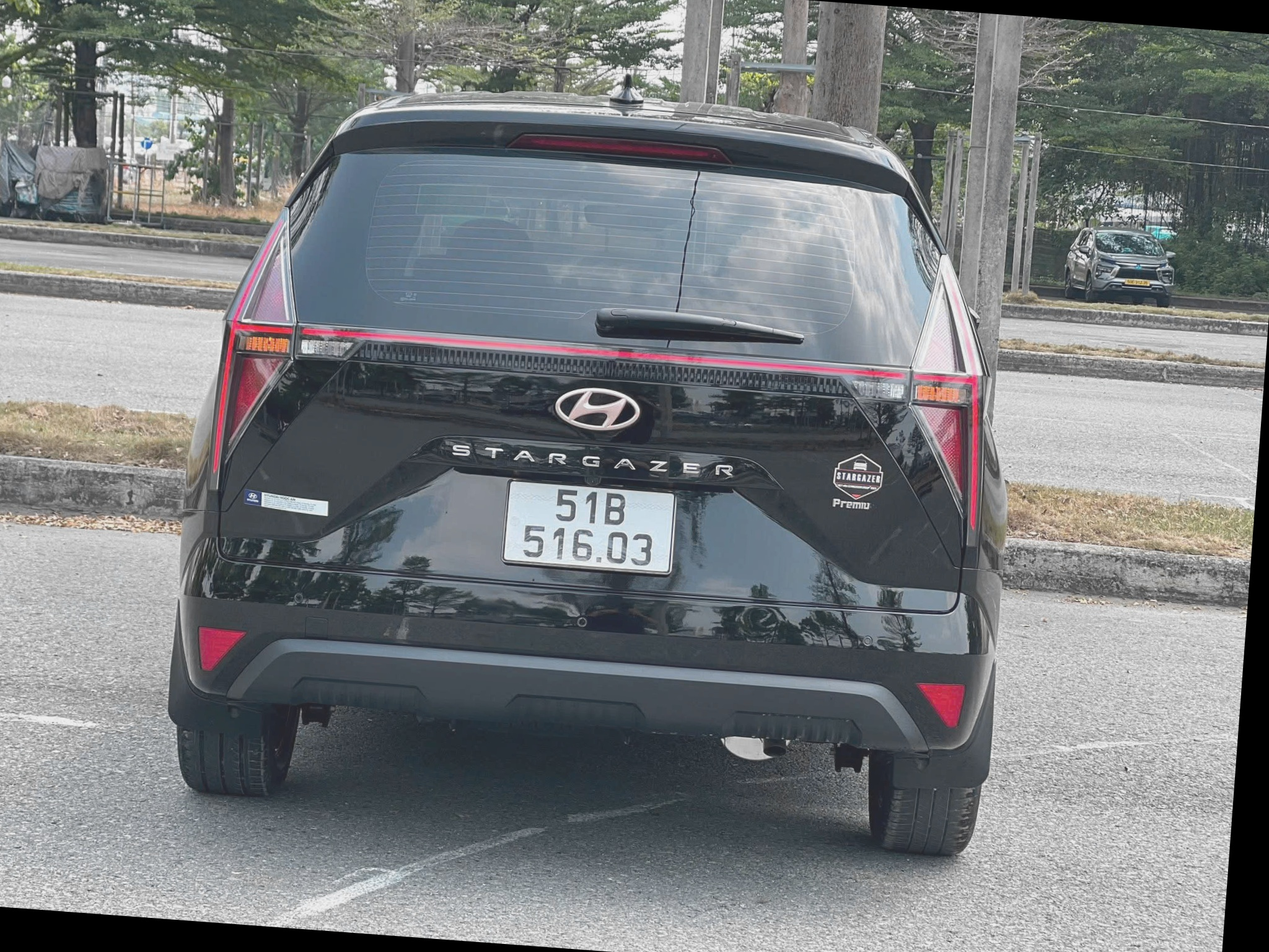Bien-so: (530, 481, 719, 575)
